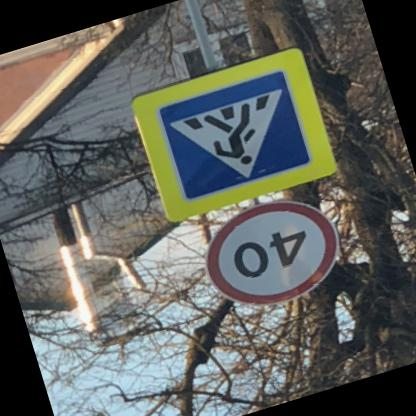crosswalk: (157, 68, 315, 204)
speedlimit: (196, 186, 354, 322)
